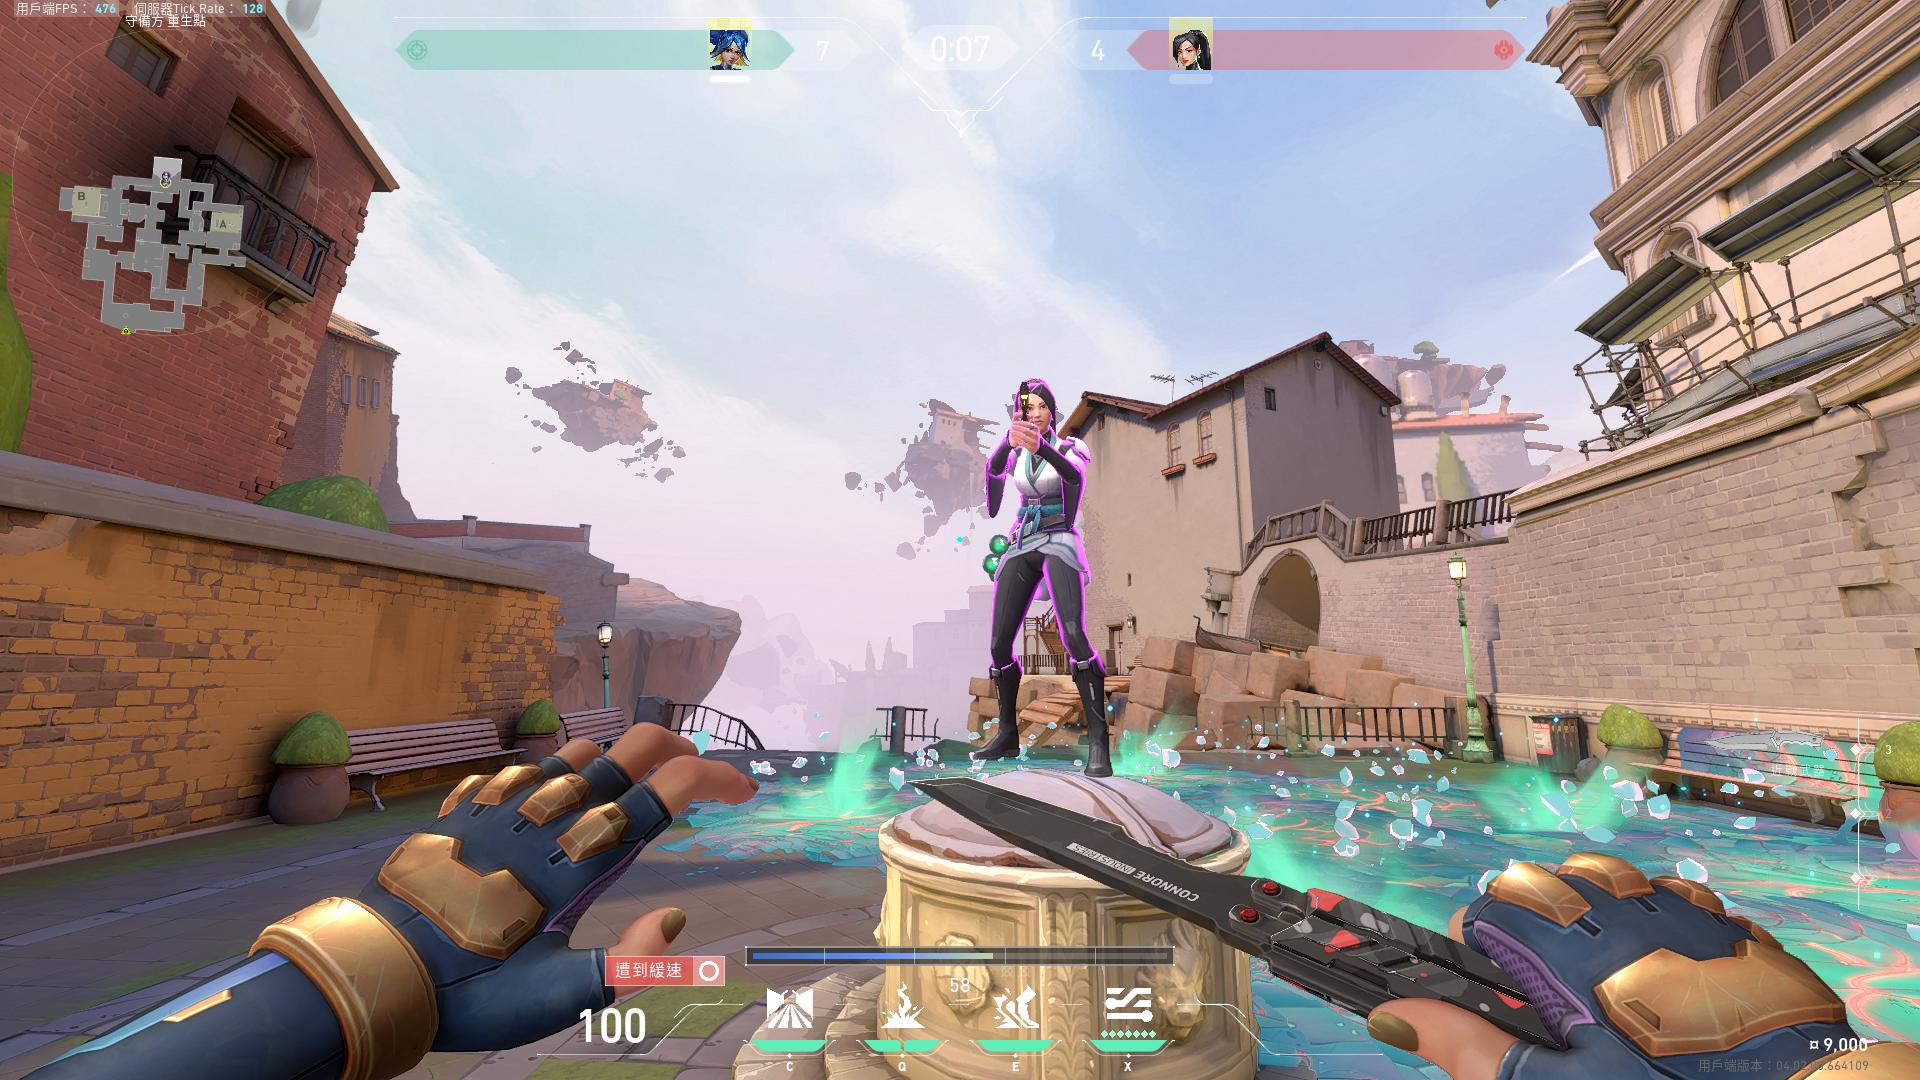enemyBody: (1029, 458, 1072, 535)
enemyHead: (1027, 392, 1048, 430)
